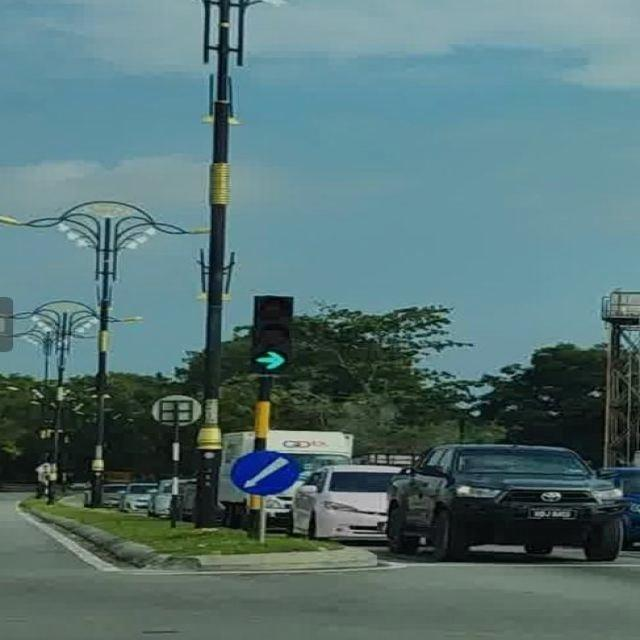Green: (248, 294, 294, 374)
